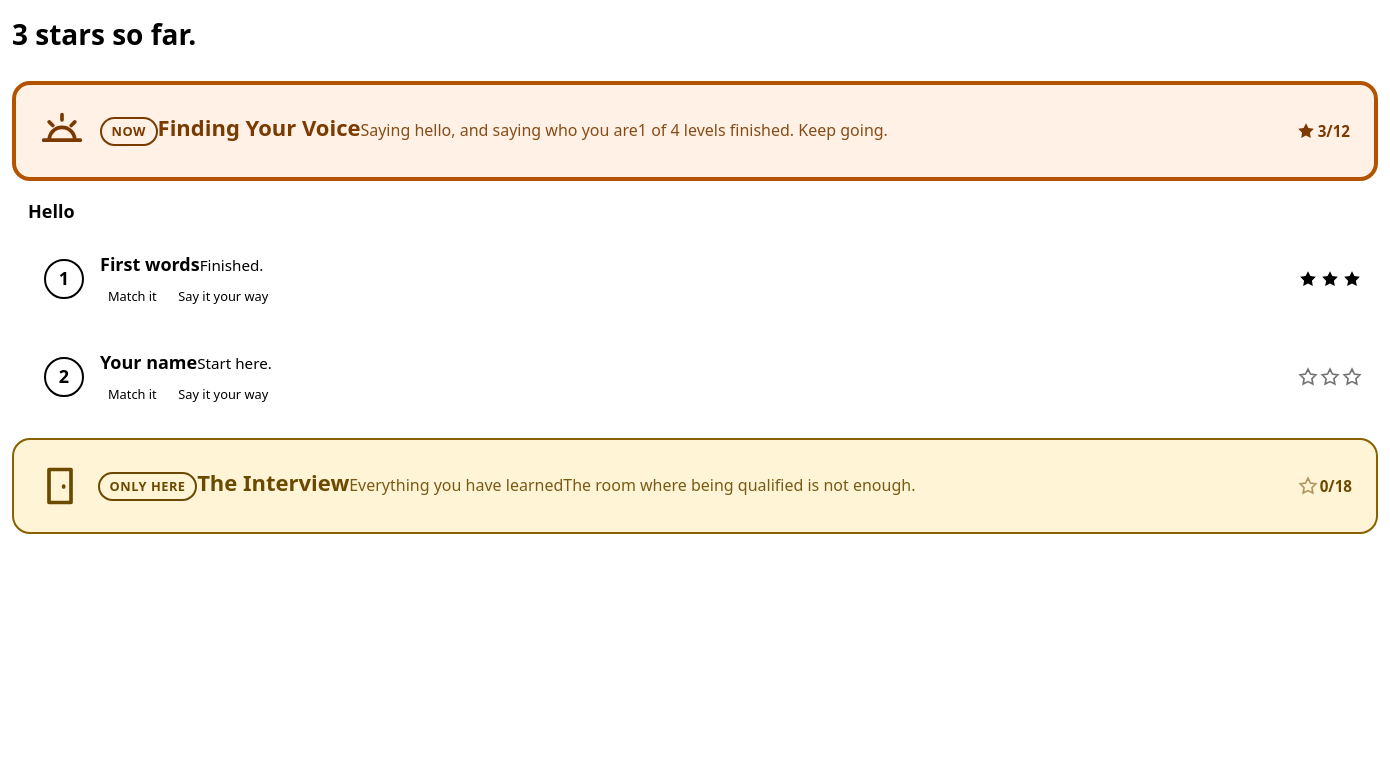
Test: nothing is ever locked › an early level is a working button, not a disabled one
This screenshot has width=1390, height=780.
Click the button with test id "world-w10": click(695, 486) [12,438,1378,534]
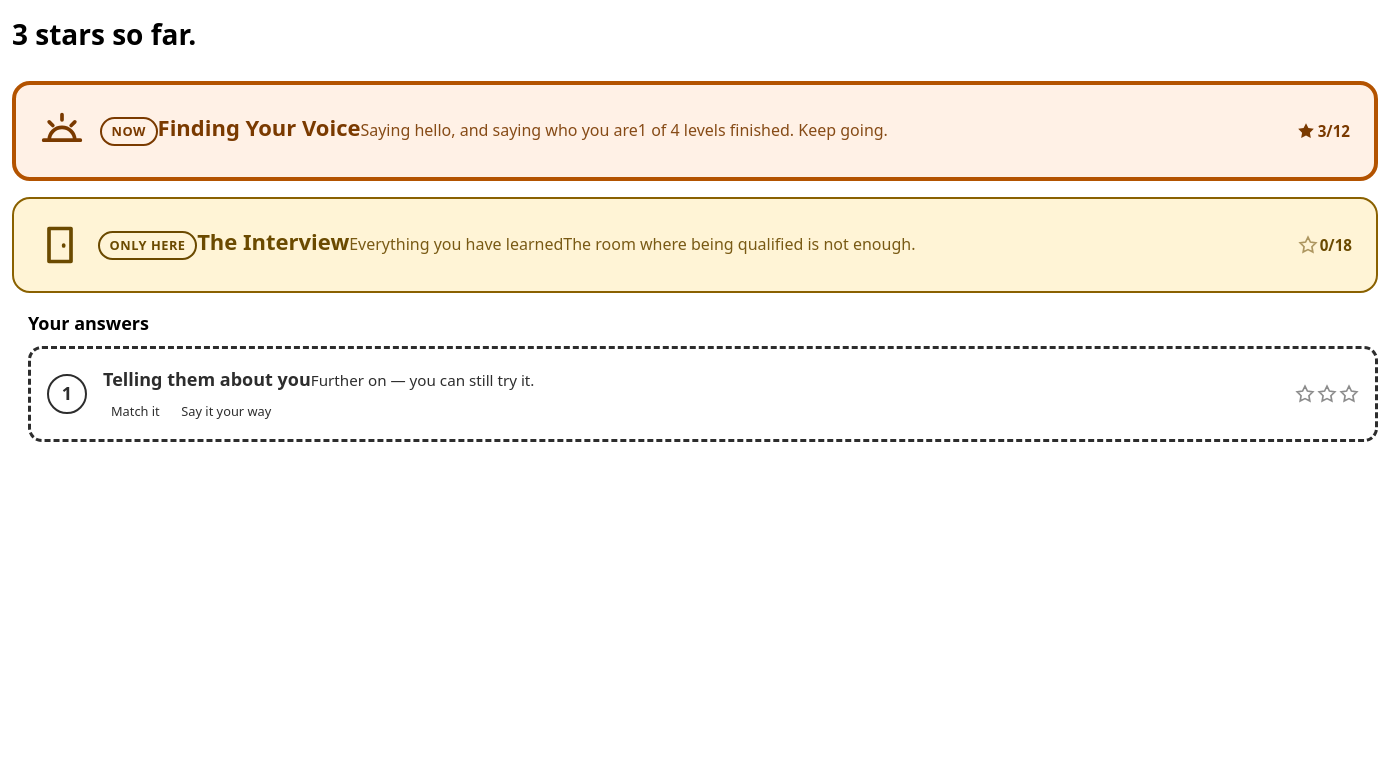
Check: the button with test id "level-w10.c1.l1" is enabled, box [28,346,1378,442]
